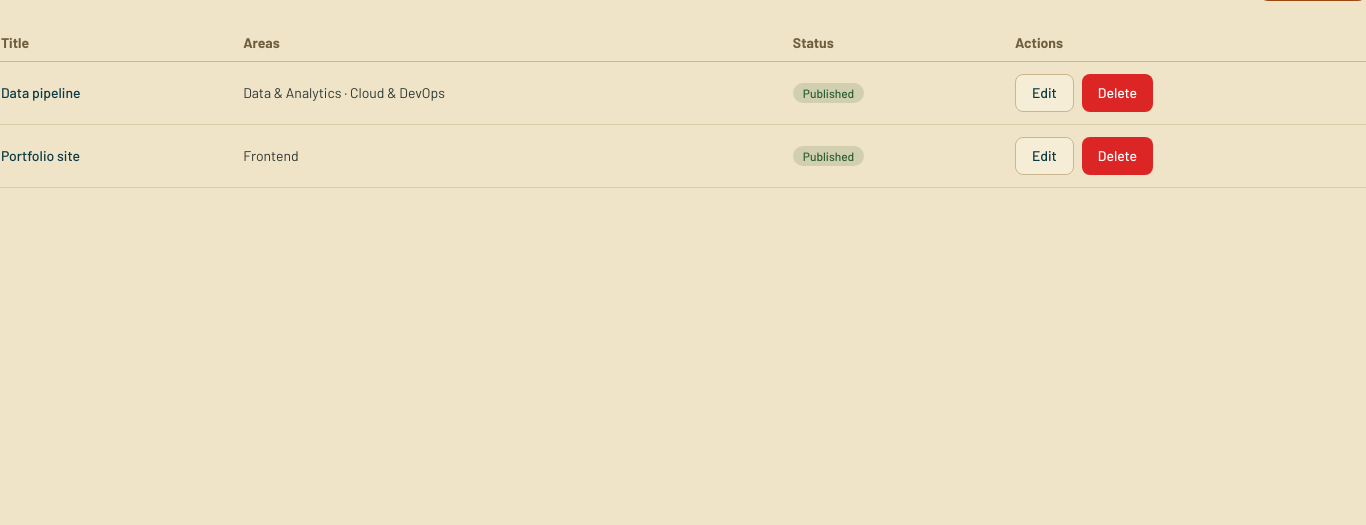
Test: AdminProjects › keeps the form open with an alert when validation fails (422)
Expected: the text "Data pipeline" is shown, [0,62,242,124]
Step 1. Click the button with aria-label "Edit Data pipeline" → (1044, 93), box [1015,74,1074,112]
(page scrolled)
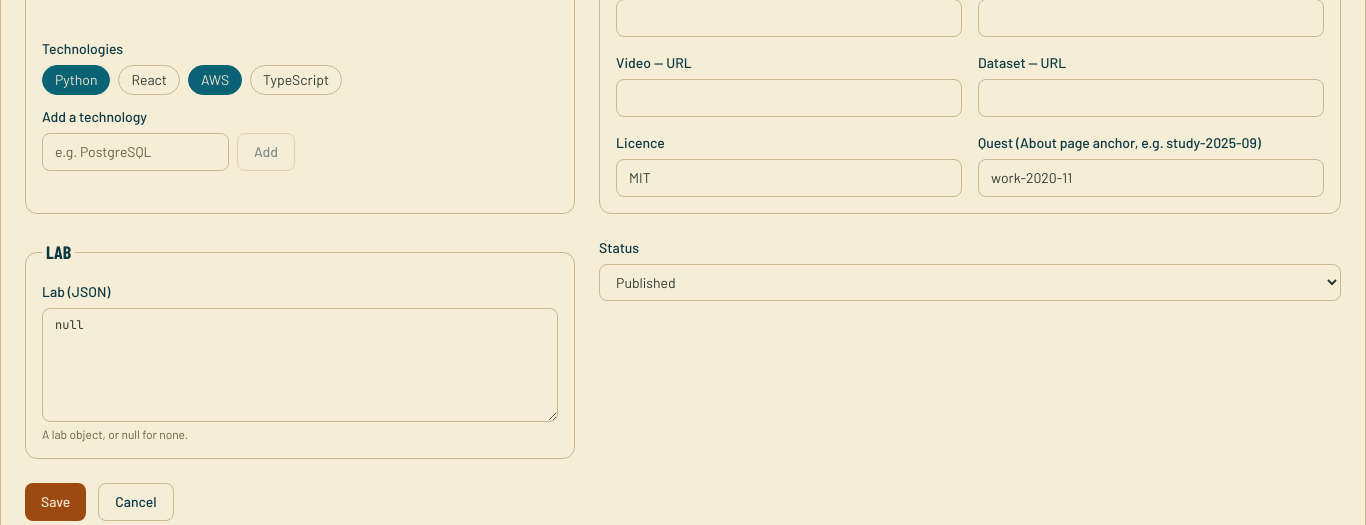
Step 2. Click the button "Save" → (56, 502), box [25,483,86,521]
(page scrolled)
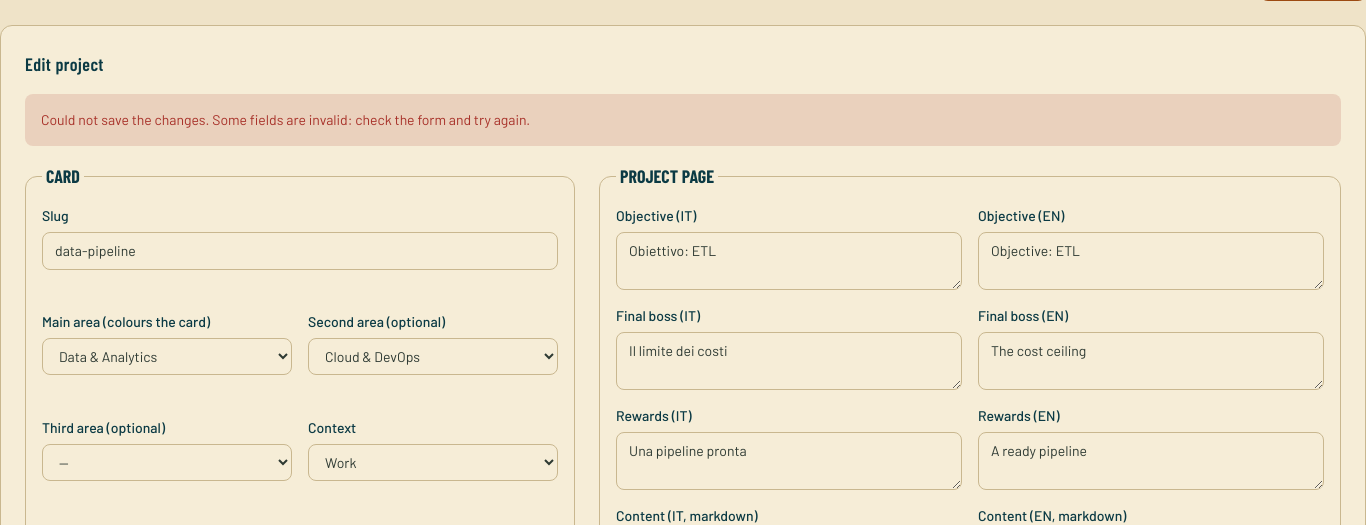
Expected: the heading "Edit project" is shown, [25,53,104,75]
Expected: the message shows "Could not save the changes. Some fields are invalid", [25,94,1341,146]
